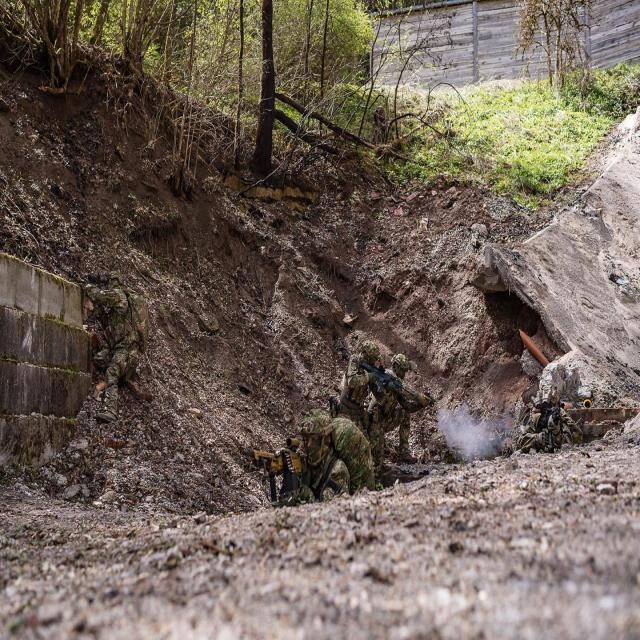Human: (330, 340, 434, 466), (246, 416, 375, 506), (81, 275, 148, 425), (514, 388, 583, 456)
